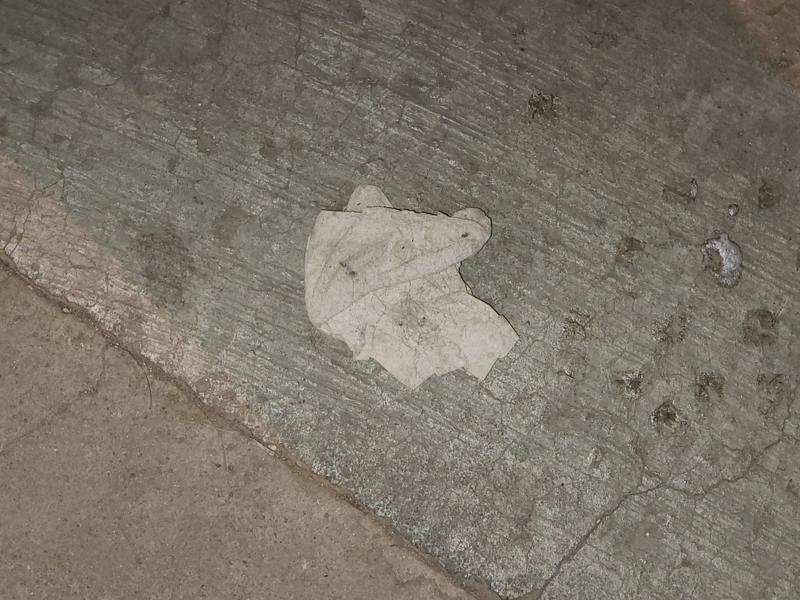papel: (302, 187, 518, 393)
